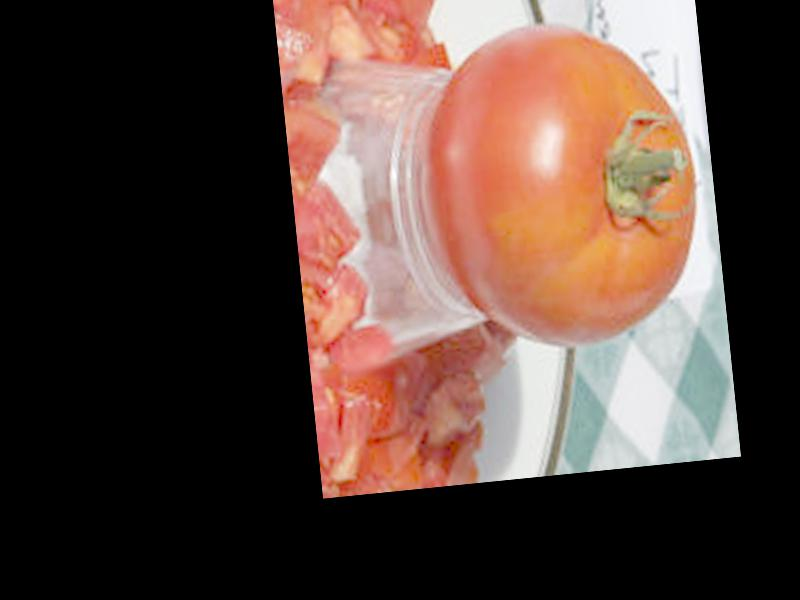Tomato: (413, 8, 713, 360)
